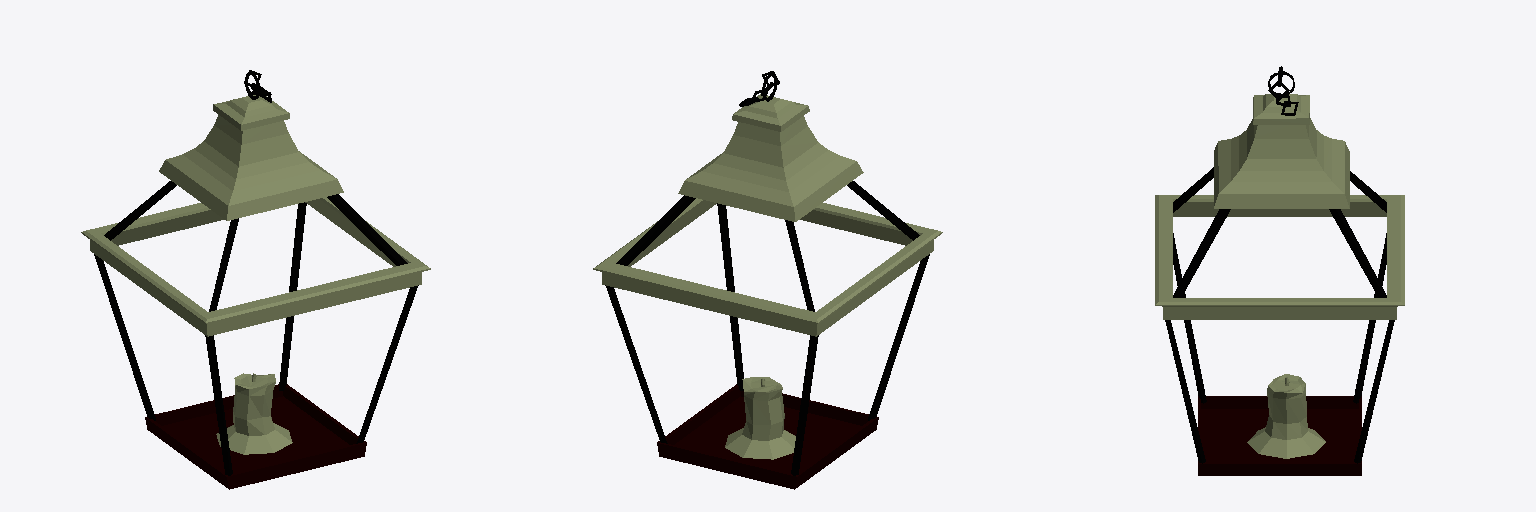
Rendered from Lantern.obj.
The picture shows the model from 3 angles: view 1: azimuth 30°, elevation 25°; view 2: azimuth 150°, elevation 25°; view 3: azimuth 270°, elevation 25°; orthographic projection.
Visible parts, largest first — view 1: Lantern_Single_Cube.015; view 2: Lantern_Single_Cube.015; view 3: Lantern_Single_Cube.015.
Boxes of the visible parts, <box> form: Lantern_Single_Cube.015: <box>81,70,430,489</box>; Lantern_Single_Cube.015: <box>593,71,942,489</box>; Lantern_Single_Cube.015: <box>1155,66,1404,475</box>.
Size of the model in its own units: 0.164 by 0.2614 by 0.1576.